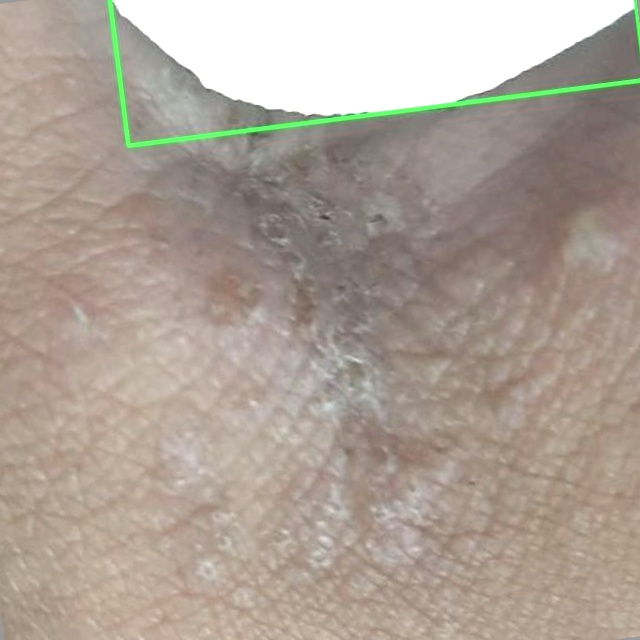Scabies: (108, 0, 639, 145)
